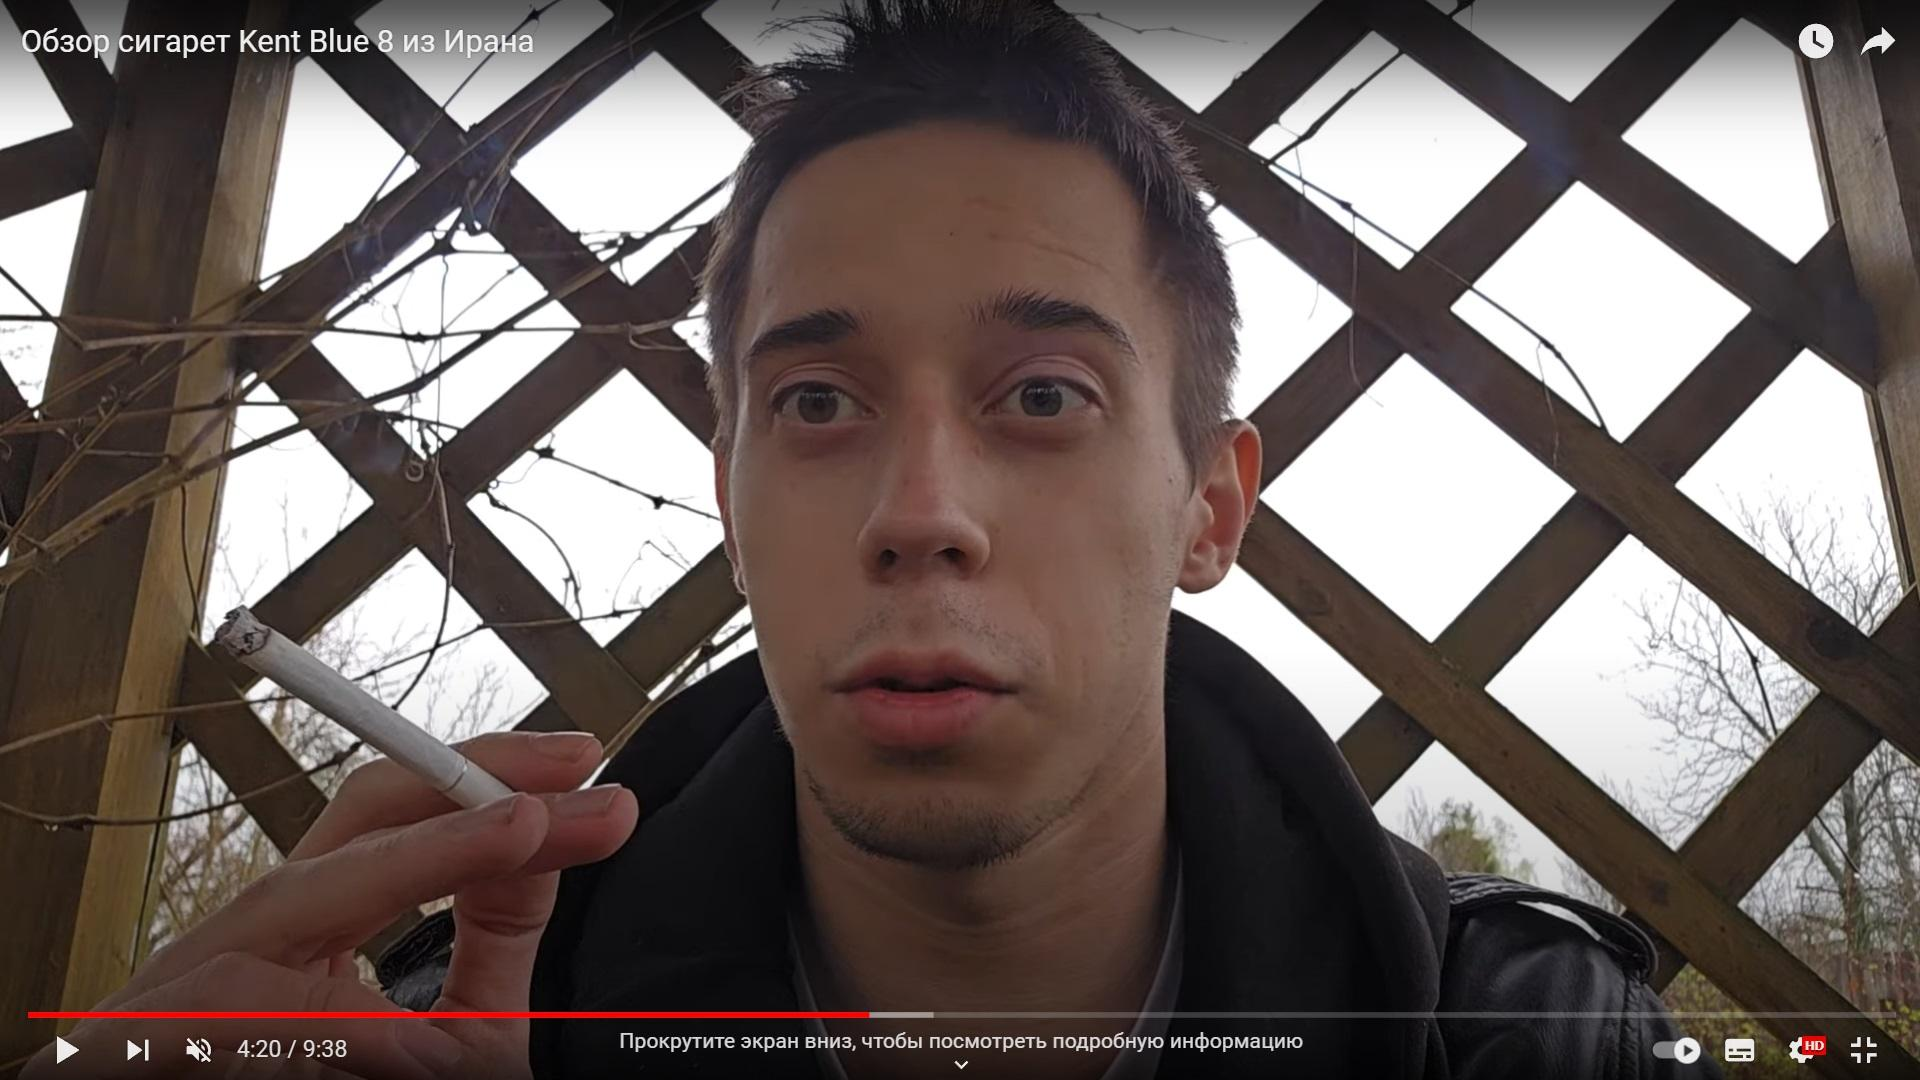cigarette: (214, 604, 516, 811)
